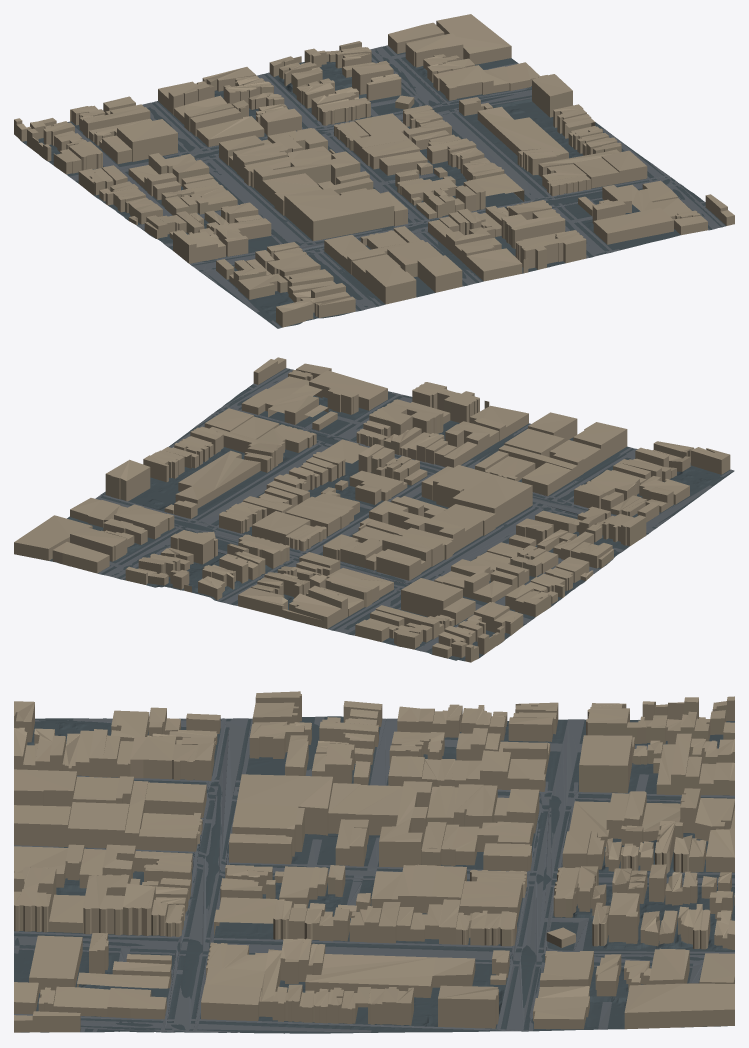
File: epsg26910-1435-10884.lod0.glb
The picture shows the model from 3 angles, top to bottom: view 1: azimuth 30°, elevation 25°; view 2: azimuth 150°, elevation 25°; view 3: azimuth 270°, elevation 25°; orthographic projection. The views are drawn at different scales.
Visible parts, largest first — view 1: epsg26910-1435-10884-lod0; view 2: epsg26910-1435-10884-lod0; view 3: epsg26910-1435-10884-lod0.
Part boxes in pixels (left/top/right/bottom): epsg26910-1435-10884-lod0: left=14, top=14, right=734, bottom=328; epsg26910-1435-10884-lod0: left=14, top=357, right=734, bottom=662; epsg26910-1435-10884-lod0: left=14, top=691, right=734, bottom=1033.
Size of the model in its own units: 384 by 23.38 by 384.
